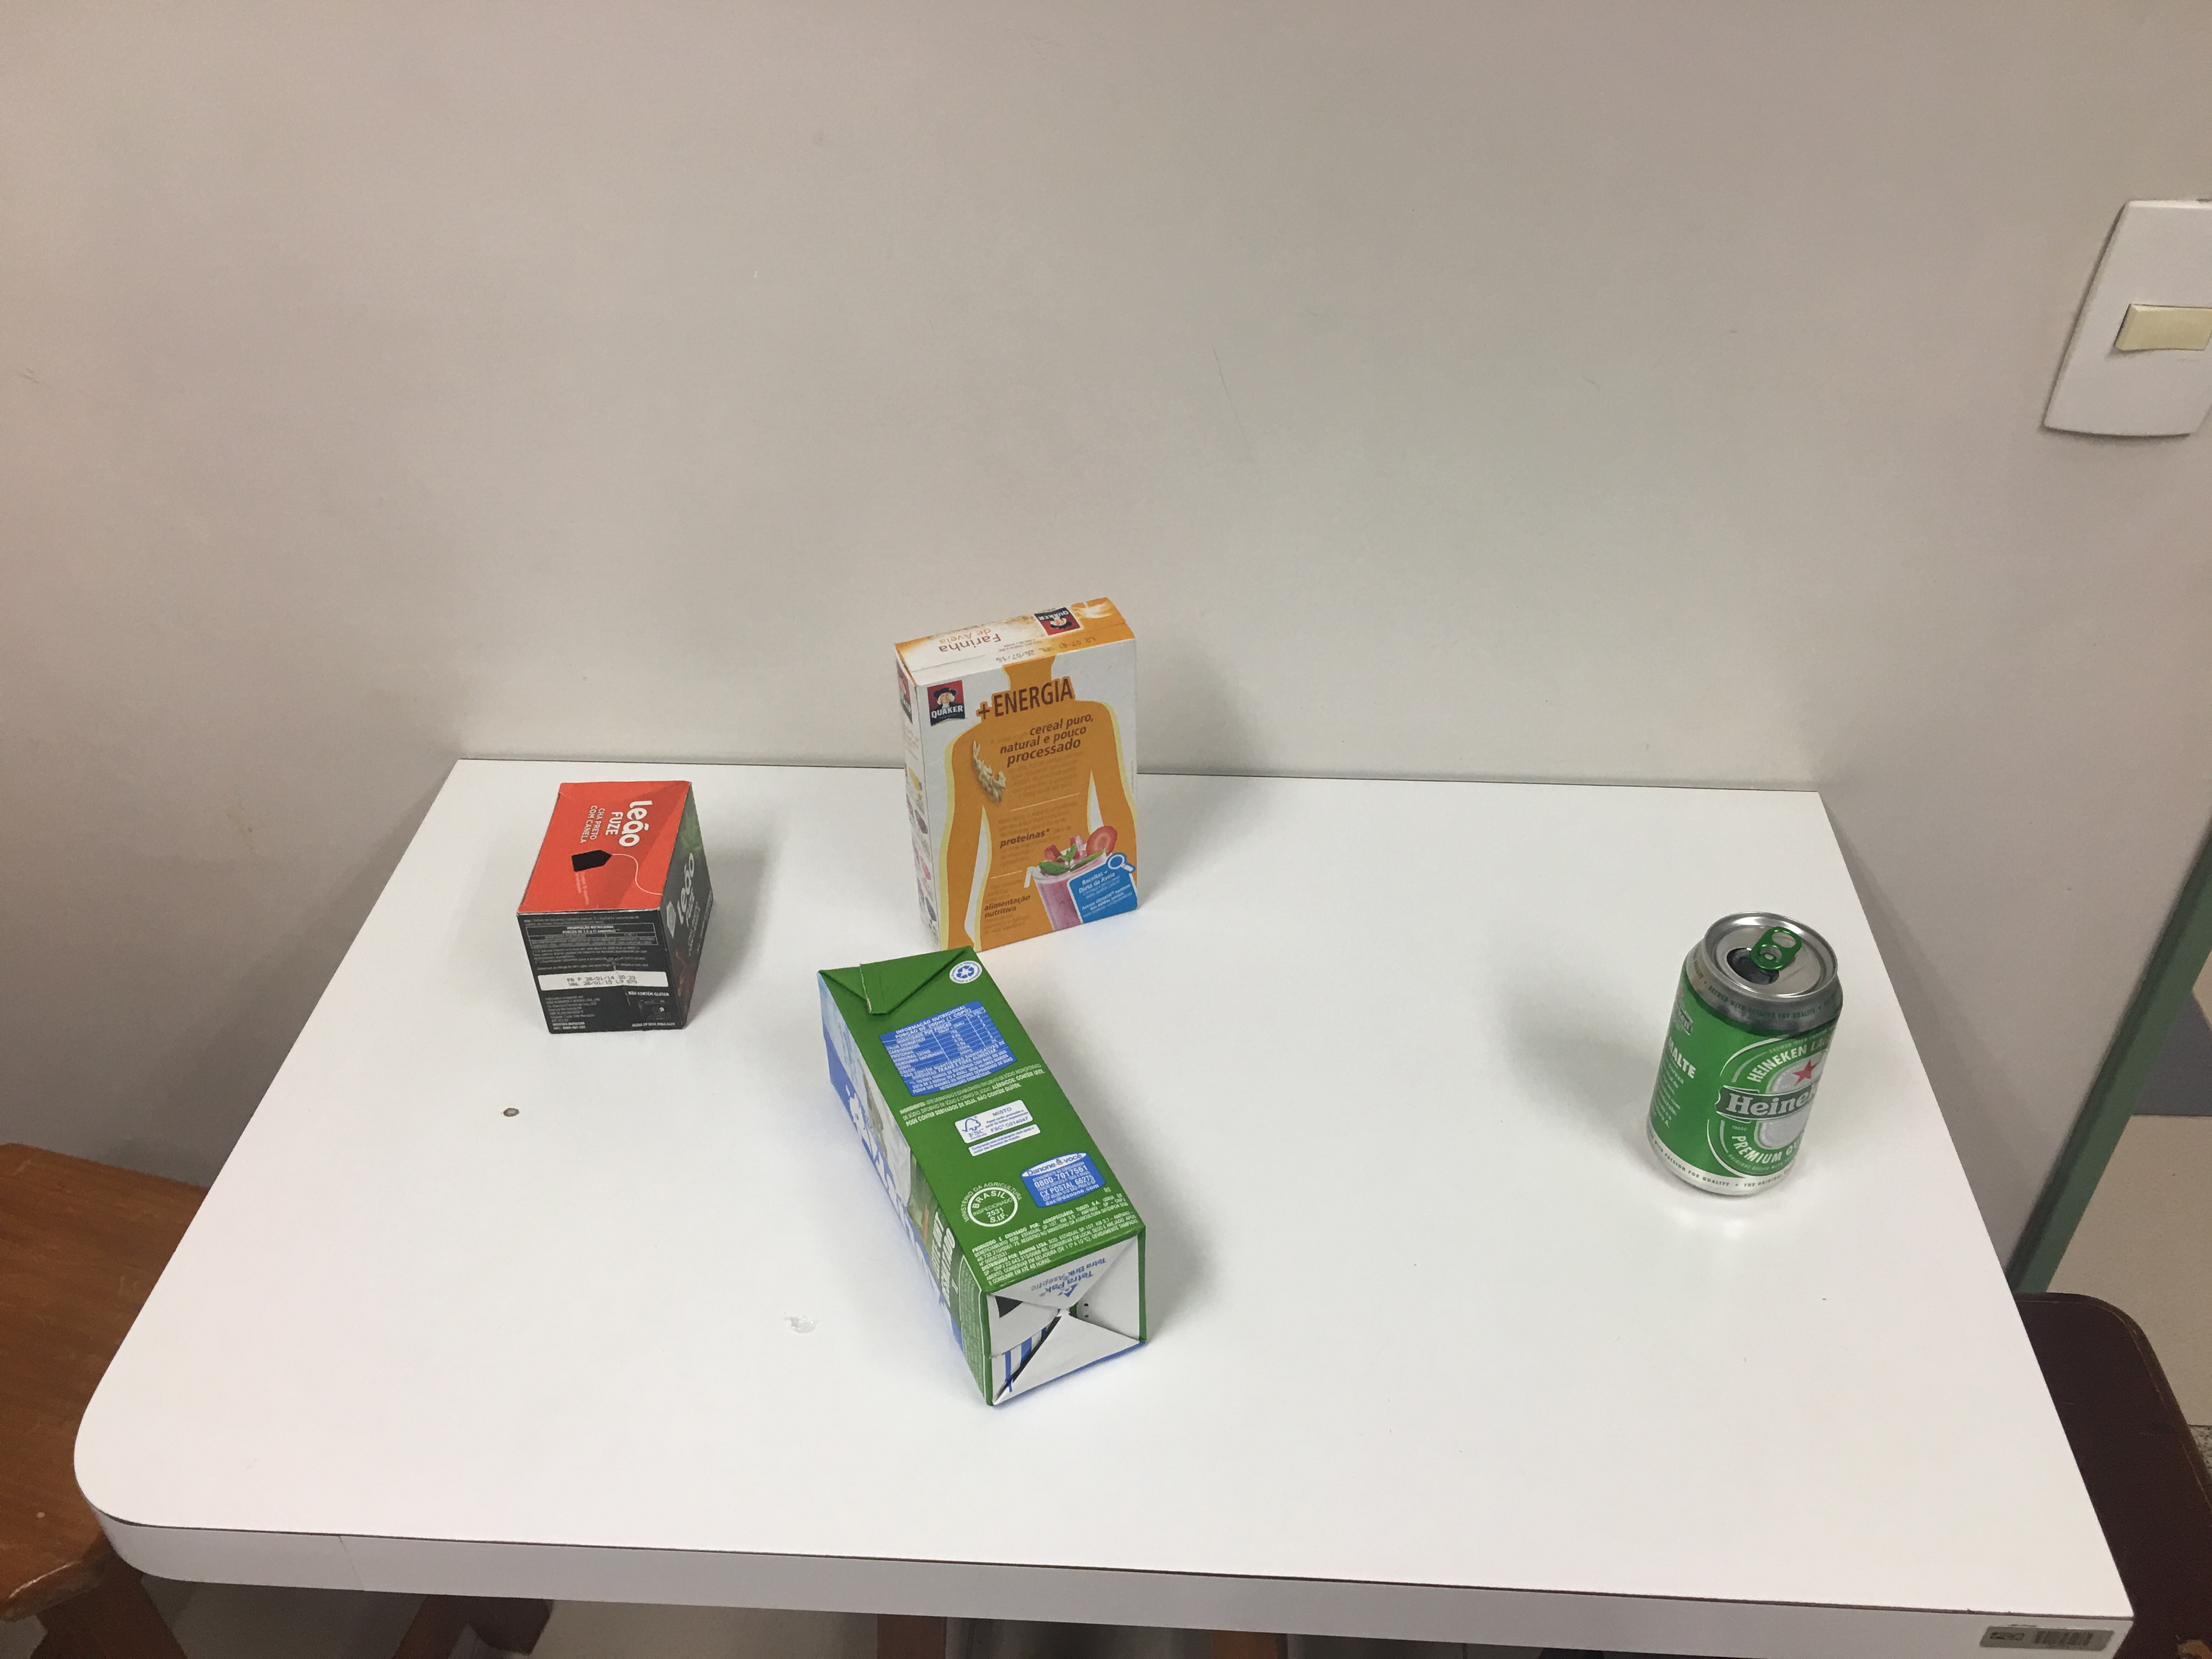cereal: (907, 598, 1143, 945)
heineken: (1637, 913, 1853, 1197)
milk_box: (820, 939, 1157, 1413)
tea_box: (517, 781, 718, 1042)
